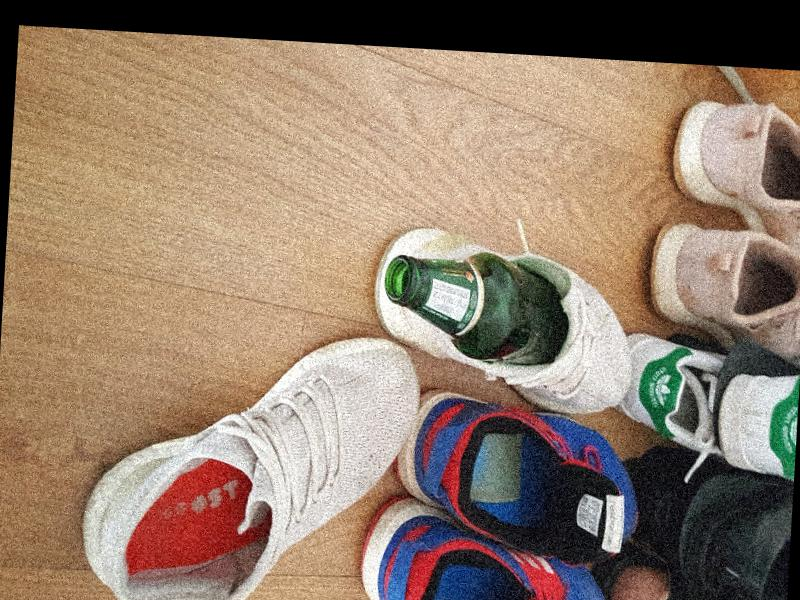Beer: (379, 247, 570, 369)
